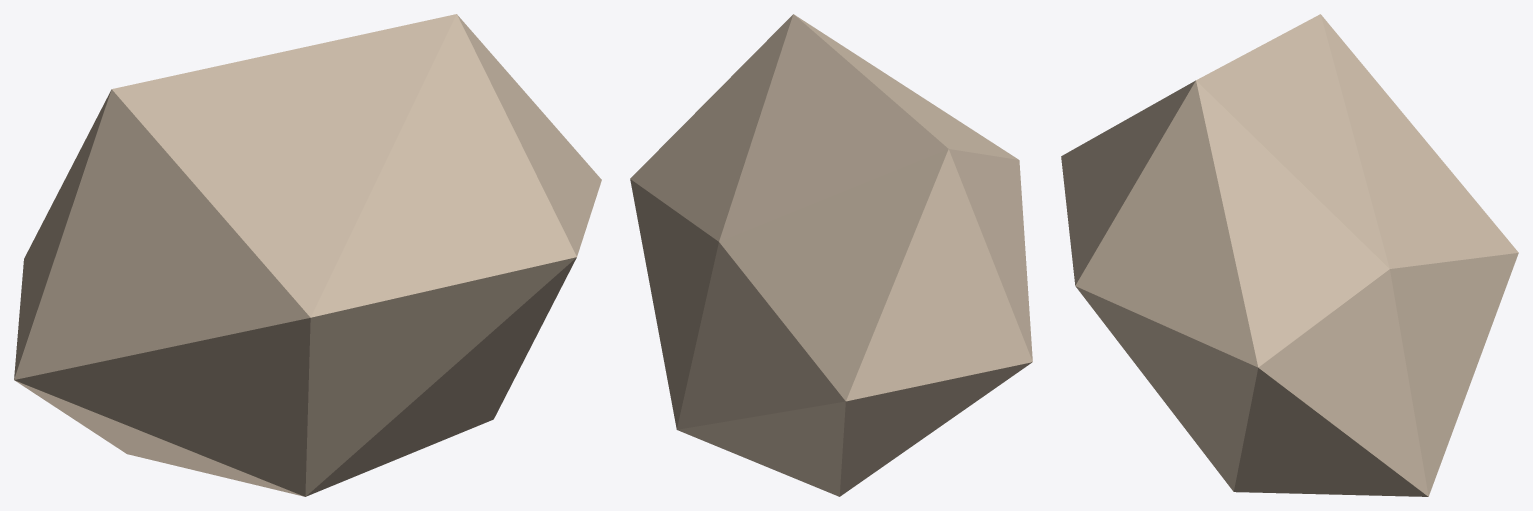
File: Forest_Rock2.fbx
The picture shows the model from 3 angles, left to right: view 1: azimuth 30°, elevation 25°; view 2: azimuth 150°, elevation 25°; view 3: azimuth 270°, elevation 25°; orthographic projection. The views are drawn at different scales.
Visible parts, largest first — view 1: Icosphere.002; view 2: Icosphere.002; view 3: Icosphere.002.
Boxes of the visible parts, x1=… form: Icosphere.002: x1=14, y1=14, x2=601, y2=496; Icosphere.002: x1=630, y1=14, x2=1032, y2=496; Icosphere.002: x1=1061, y1=14, x2=1518, y2=496.
Size of the model in its own units: 189 by 158 by 151.
